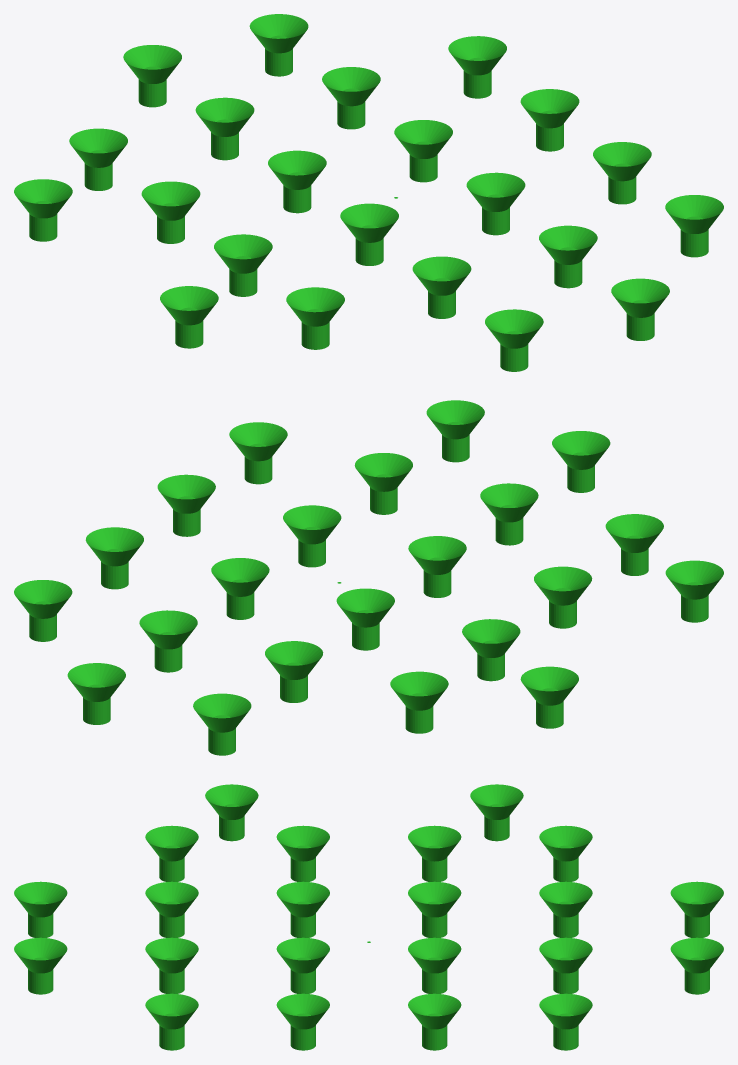
File: filter_route.glb
The picture shows the model from 3 angles, top to bottom: view 1: azimuth 30°, elevation 25°; view 2: azimuth 150°, elevation 25°; view 3: azimuth 270°, elevation 25°; orthographic projection. The views are drawn at different scales.
Visible parts, largest first — view 1: filter_route; view 2: filter_route; view 3: filter_route.
Part boxes in pixels (left/top/right/bottom): filter_route: left=14, top=14, right=723, bottom=371; filter_route: left=14, top=400, right=723, bottom=755; filter_route: left=14, top=784, right=723, bottom=1050.
Bounding box in the file's own units: 7.51 × 0.6055 × 9.71.
